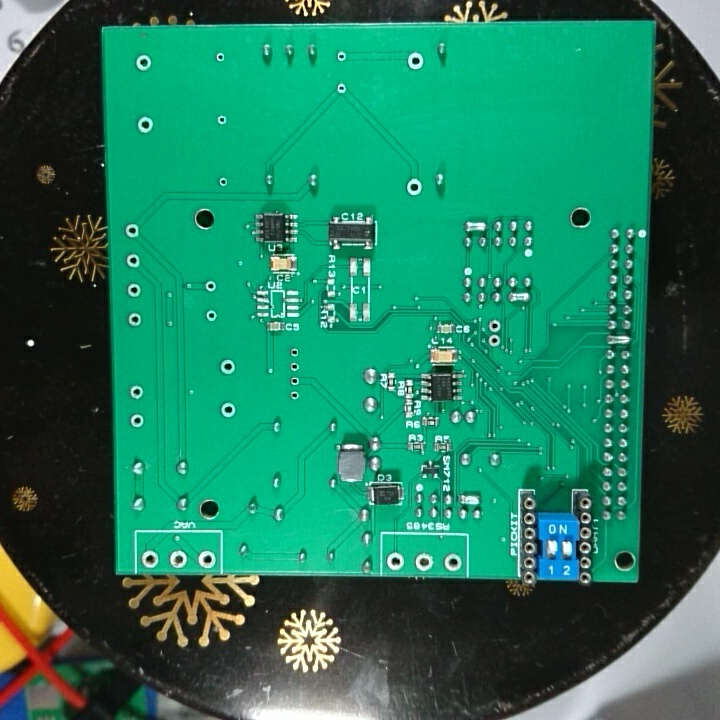F: (167, 546, 188, 572), (404, 175, 425, 200), (405, 50, 426, 74), (134, 114, 156, 135), (414, 550, 434, 572), (219, 400, 238, 423), (139, 550, 160, 570), (217, 357, 238, 377), (133, 53, 153, 73), (442, 552, 461, 572), (197, 549, 216, 569), (125, 309, 144, 329), (124, 251, 142, 272), (125, 280, 144, 299), (385, 552, 405, 570), (126, 385, 146, 402), (122, 222, 141, 239), (203, 307, 219, 326), (129, 413, 147, 429), (486, 318, 504, 333), (203, 278, 218, 295), (487, 333, 502, 349), (287, 346, 303, 360), (335, 49, 349, 65), (215, 114, 229, 129), (214, 49, 227, 65), (216, 175, 230, 189), (335, 81, 348, 96), (288, 389, 301, 403), (287, 360, 301, 373), (287, 375, 302, 387)
P: (506, 290, 533, 306), (605, 333, 633, 347), (458, 491, 484, 506), (463, 219, 488, 232)
